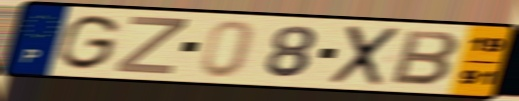0: (197, 18, 258, 80)
8: (264, 24, 319, 80)
B: (388, 28, 463, 88)
G: (54, 13, 123, 72)
X: (325, 23, 404, 88)
Z: (111, 14, 191, 76)
